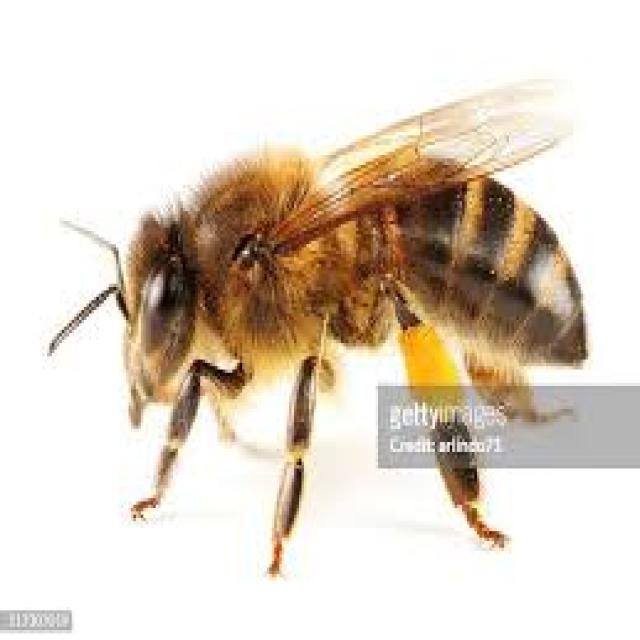Bees: (45, 75, 591, 579)
